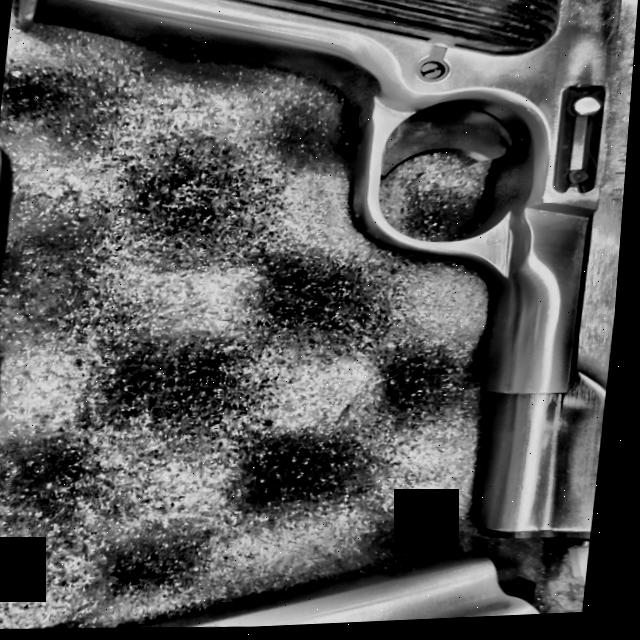Norinco: (0, 0, 640, 628)
